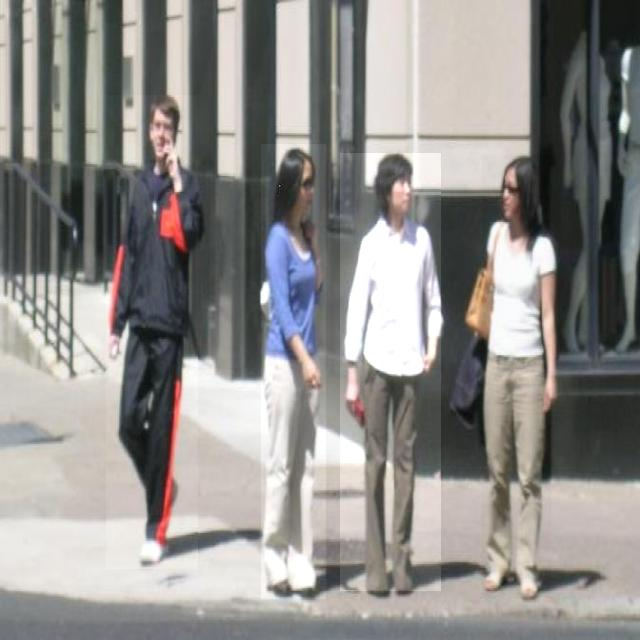with scooter: (340, 154, 441, 592), (106, 96, 198, 570), (482, 155, 551, 598), (261, 144, 326, 599)
